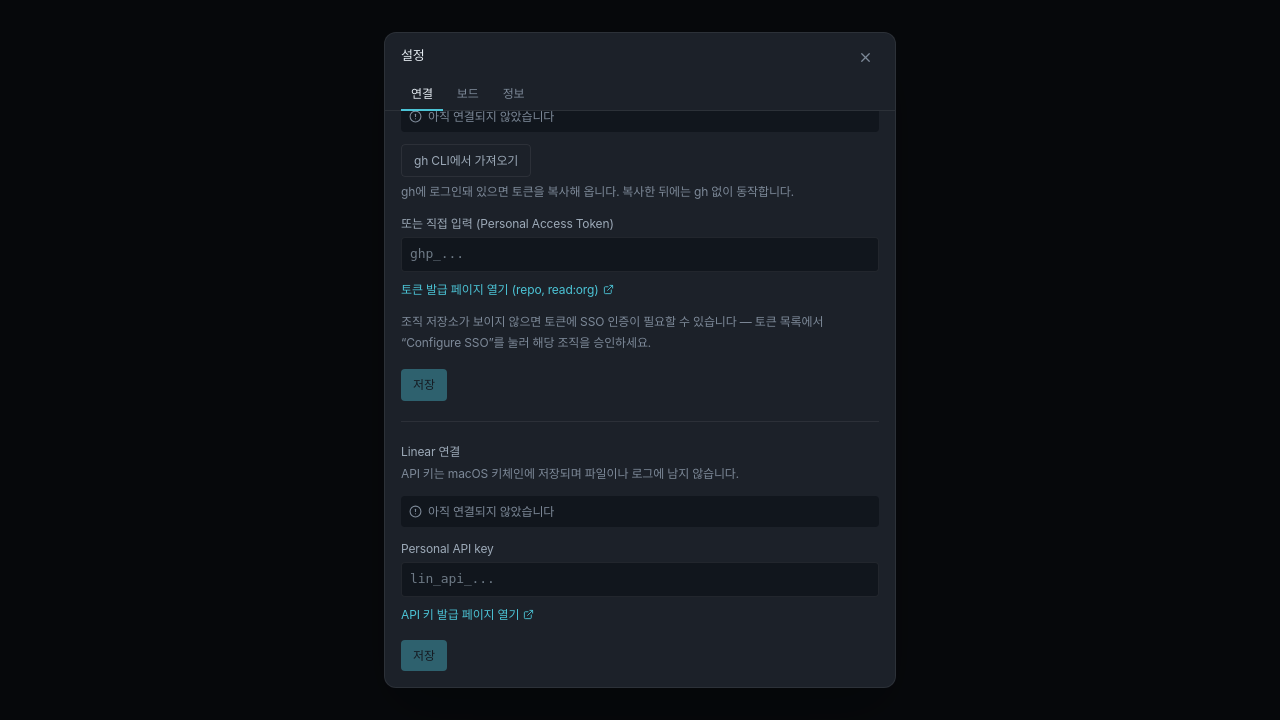
Test case: SettingsModal Linear connection › shows a save IPC rejection and clears the working state
The image size is (1280, 720).
(page scrolled)
Type "lin_api_test" into the password field with placeholder "lin_api_...".
click(640, 580); type("lin_api_test")  # box top-left (401, 562), bottom-right (879, 597)
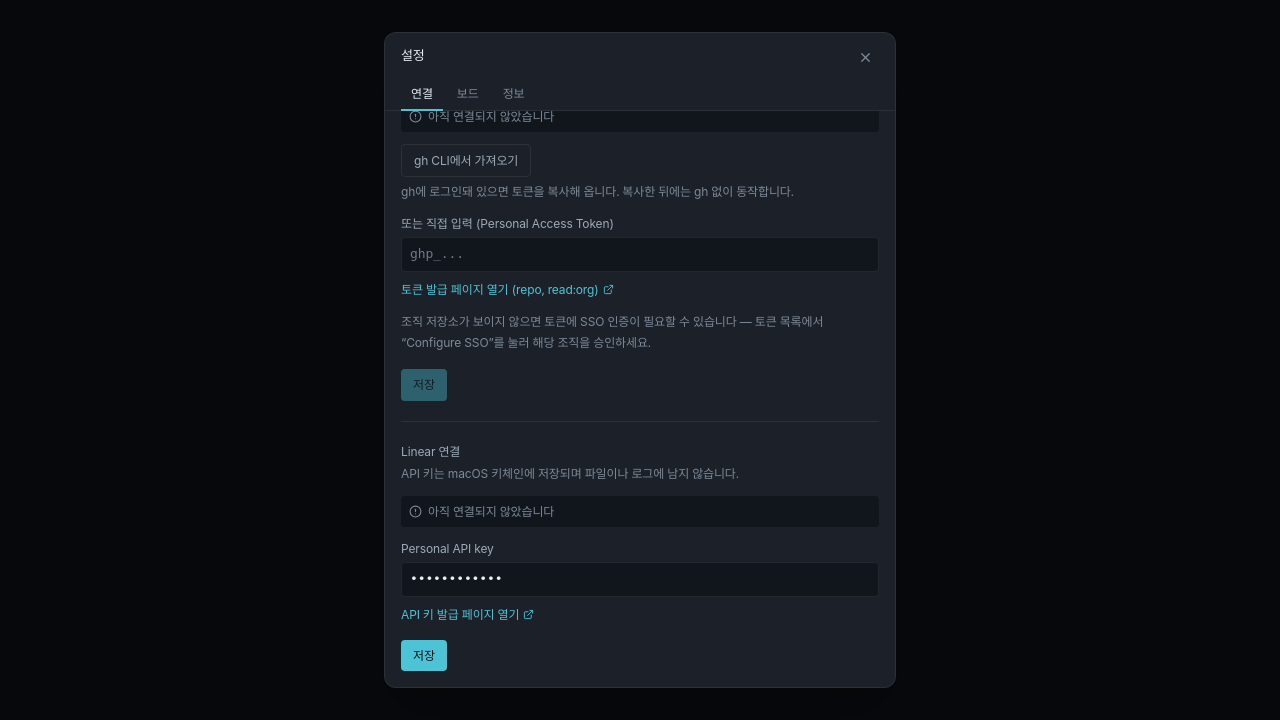
Click the button "저장" below "Personal API key".
click(424, 656)  # box top-left (401, 640), bottom-right (447, 671)
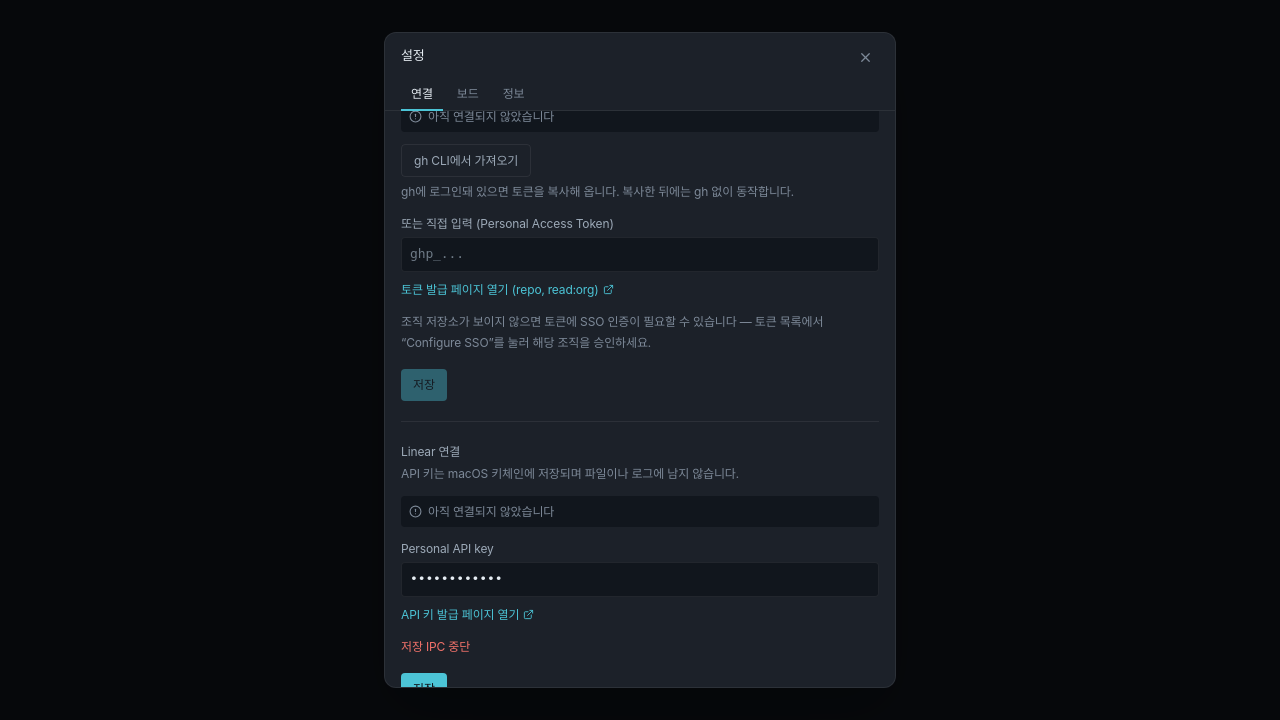
Expected: the text "저장 IPC 중단" is shown, top-left (401, 639), bottom-right (470, 654)
